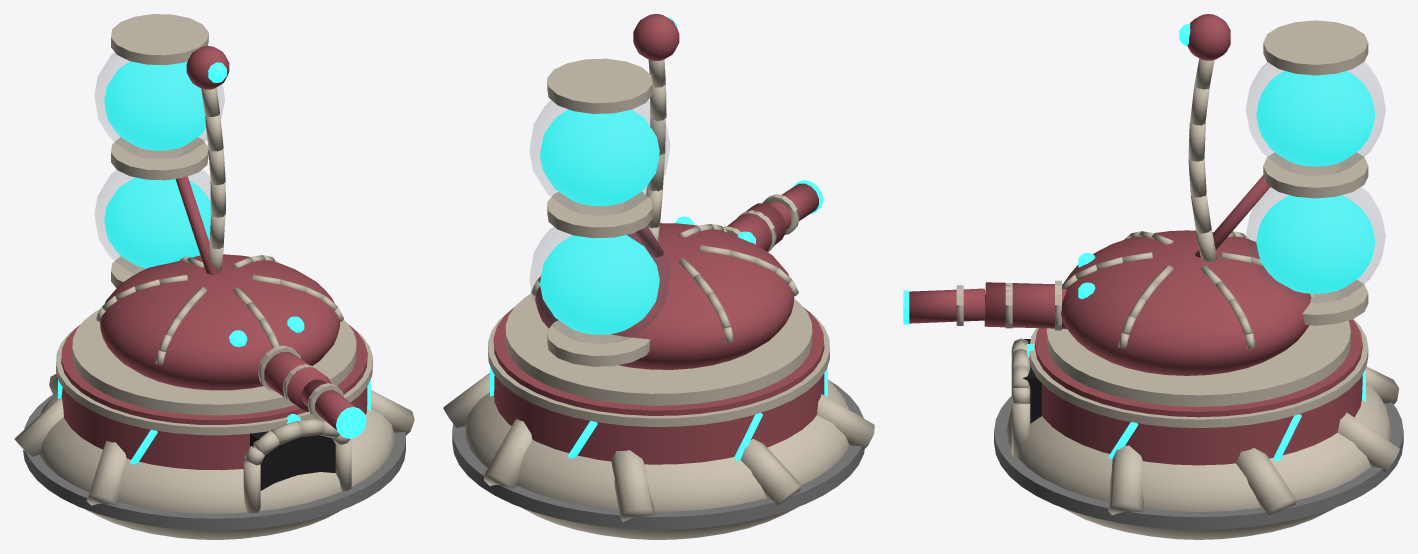
The model's file is Machinegoon_T1_Spitter.glb.
3 renders of one model, left to right at view 1: azimuth 30°, elevation 25°; view 2: azimuth 150°, elevation 25°; view 3: azimuth 270°, elevation 25°, orthographic. The views are drawn at different scales.
Visible parts, largest first — view 1: Machinegoon_T1_Spitter_Turret, Machinegoon_T1_Spitter_Base; view 2: Machinegoon_T1_Spitter_Turret, Machinegoon_T1_Spitter_Base; view 3: Machinegoon_T1_Spitter_Turret, Machinegoon_T1_Spitter_Base.
Boxes of the visible parts, x1,y1,x2,y2 form: Machinegoon_T1_Spitter_Turret: (72, 14, 366, 438); Machinegoon_T1_Spitter_Base: (14, 324, 414, 539); Machinegoon_T1_Spitter_Turret: (505, 14, 823, 405); Machinegoon_T1_Spitter_Base: (443, 307, 874, 539); Machinegoon_T1_Spitter_Turret: (903, 14, 1385, 406); Machinegoon_T1_Spitter_Base: (994, 319, 1403, 539).
Bounding box in the file's own units: 3.5 × 4.58 × 4.28.
